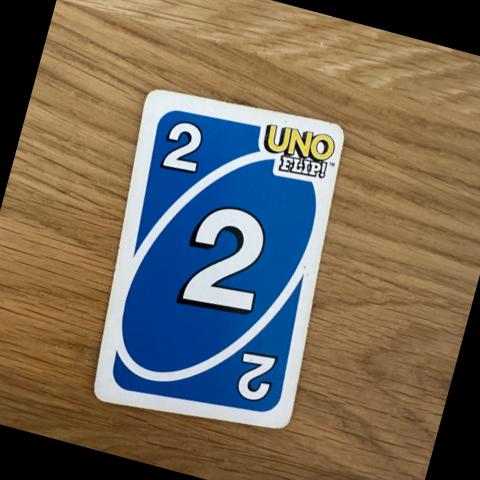lblue-2: (137, 96, 232, 191)
